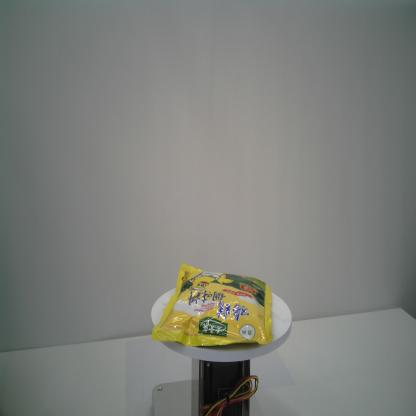Seasoner: (151, 261, 274, 349)
